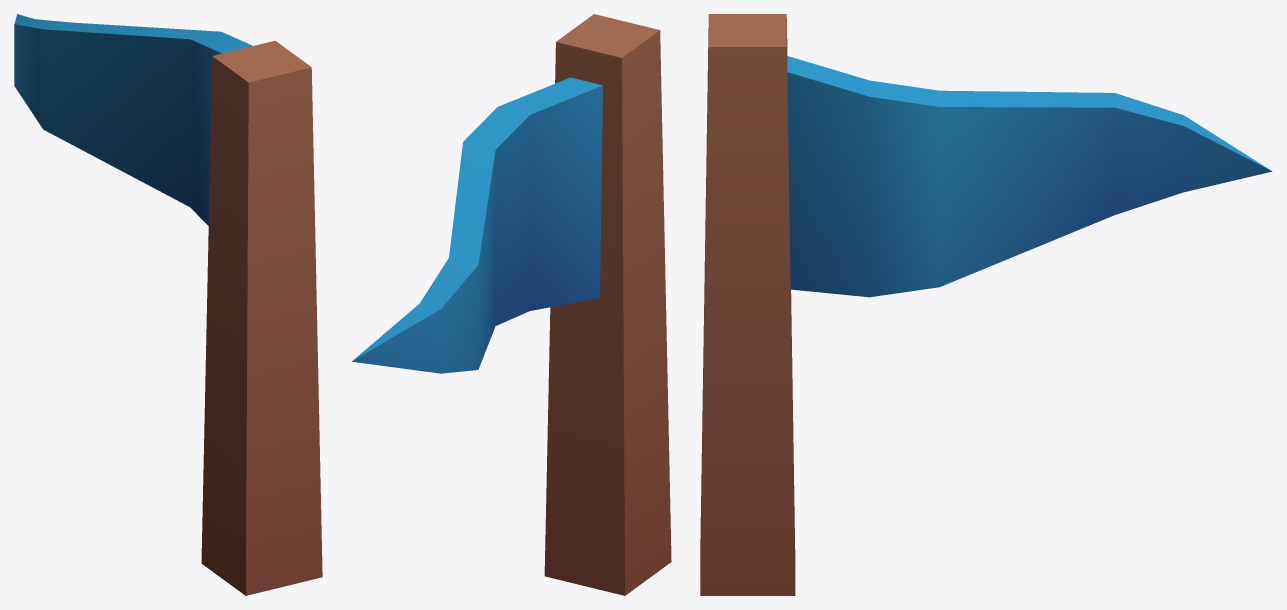
Rendered from flag_blue.glb.
3 views of the same model, side by side, from view 1: azimuth 30°, elevation 25°; view 2: azimuth 150°, elevation 25°; view 3: azimuth 270°, elevation 25° (orthographic). The views are drawn at different scales.
Visible parts, largest first — view 1: flag_blue; view 2: flag_blue; view 3: flag_blue.
Boxes of the visible parts, x1,y1,x2,y2 form: flag_blue: (14, 14, 322, 595); flag_blue: (352, 14, 671, 595); flag_blue: (700, 14, 1272, 595).
Size of the model in its own units: 0.055 by 0.2775 by 0.264.
Materials: 1 (1 with a texture image).
